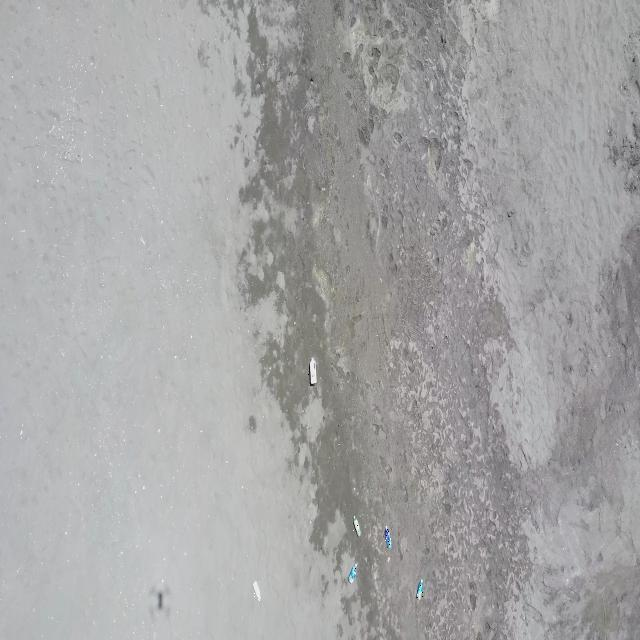plastic-bottle: (308, 358, 318, 386), (348, 563, 358, 584), (353, 515, 362, 537), (385, 525, 392, 548), (416, 579, 423, 600), (253, 582, 260, 602)
